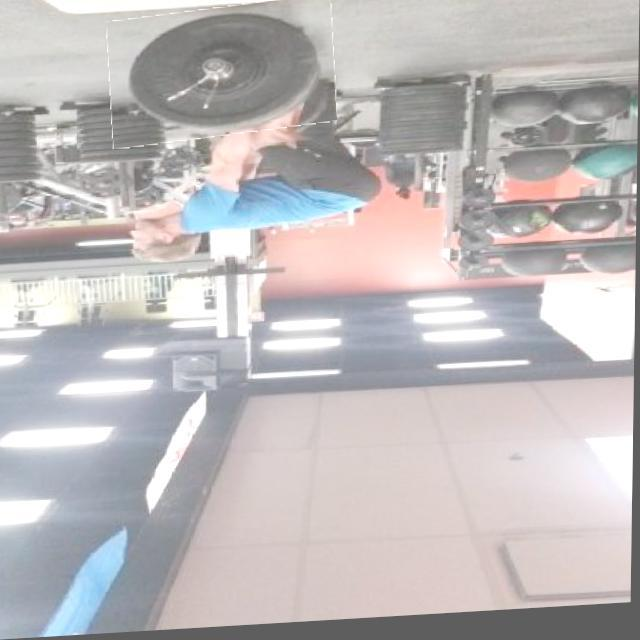barbell: (108, 2, 338, 148)
